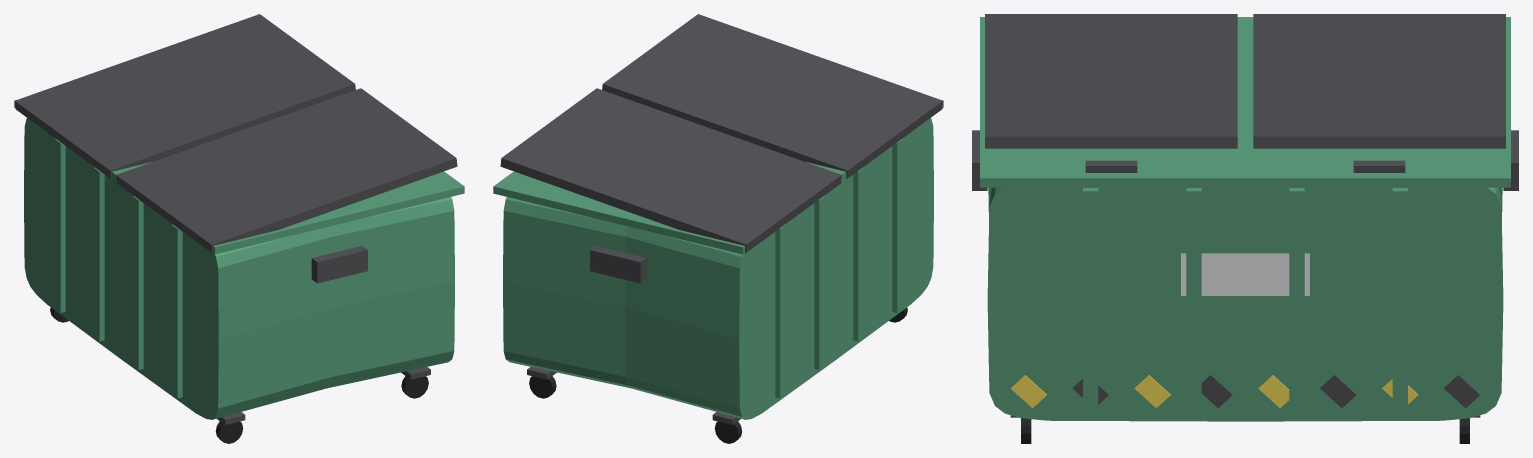
File: SM_Prop_Dumpster.fbx
3 renders of one model, left to right at view 1: azimuth 30°, elevation 25°; view 2: azimuth 150°, elevation 25°; view 3: azimuth 270°, elevation 25°, orthographic. The views are drawn at different scales.
Visible parts, largest first — view 1: SM_Prop_Dumpster; view 2: SM_Prop_Dumpster; view 3: SM_Prop_Dumpster.
Boxes of the visible parts, x1,y1,x2,y2 form: SM_Prop_Dumpster: (14,14,464,443); SM_Prop_Dumpster: (493,14,943,443); SM_Prop_Dumpster: (972,14,1518,443).
Size of the model in its own units: 2.12 by 1.49 by 1.38.
